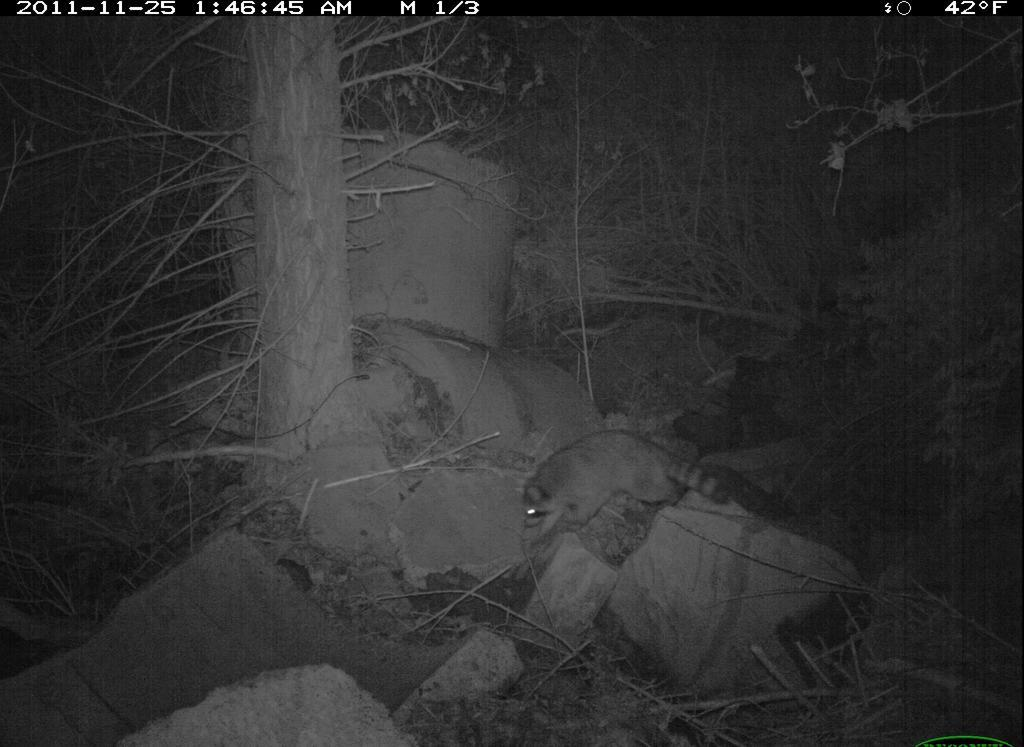raccoon: (507, 433, 751, 551)
